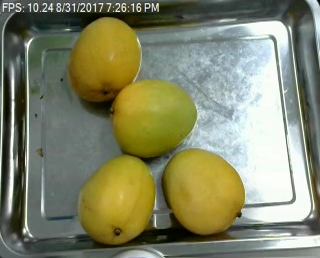Mango: (163, 149, 247, 238), (78, 152, 156, 246), (64, 15, 143, 104), (111, 80, 194, 158)
